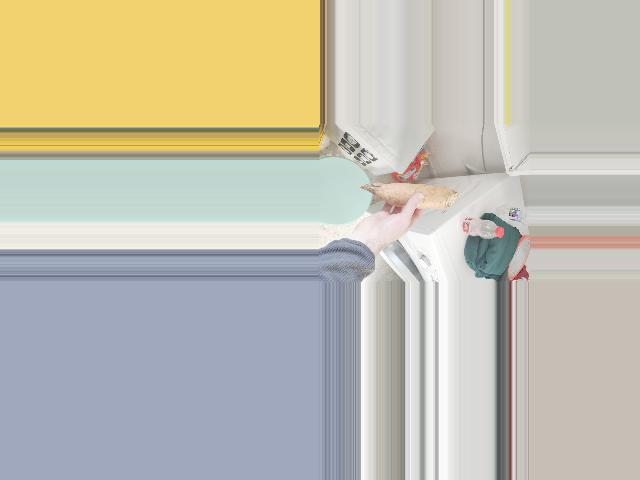sweet_potato: (362, 176, 461, 214)
